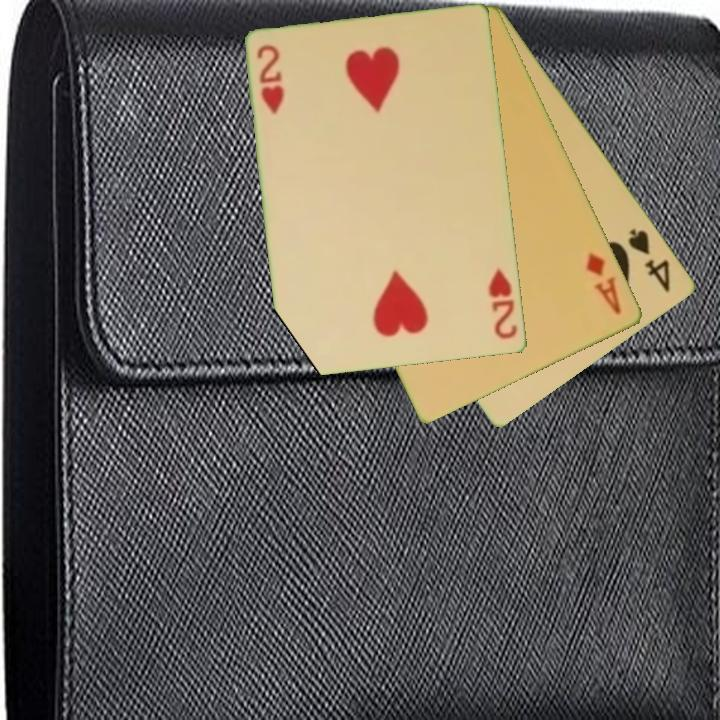2h: (485, 265, 521, 343), (254, 41, 288, 118)
4s: (625, 225, 674, 296)
Ad: (582, 249, 625, 318)
